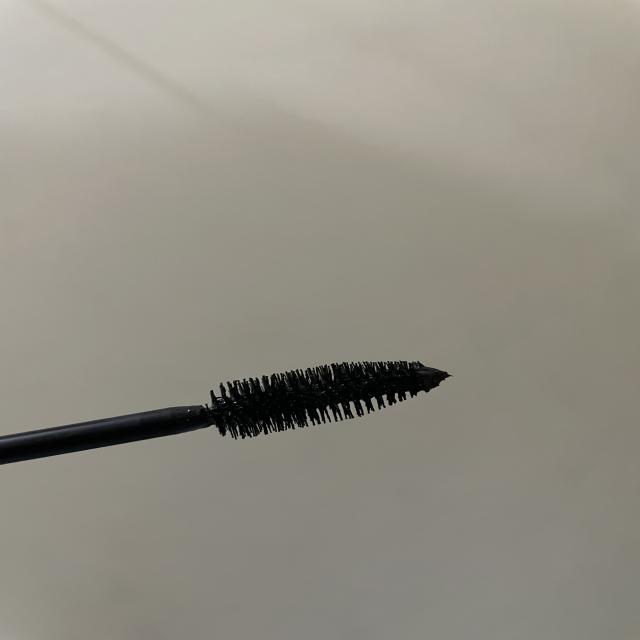mascara: (0, 321, 479, 531)
